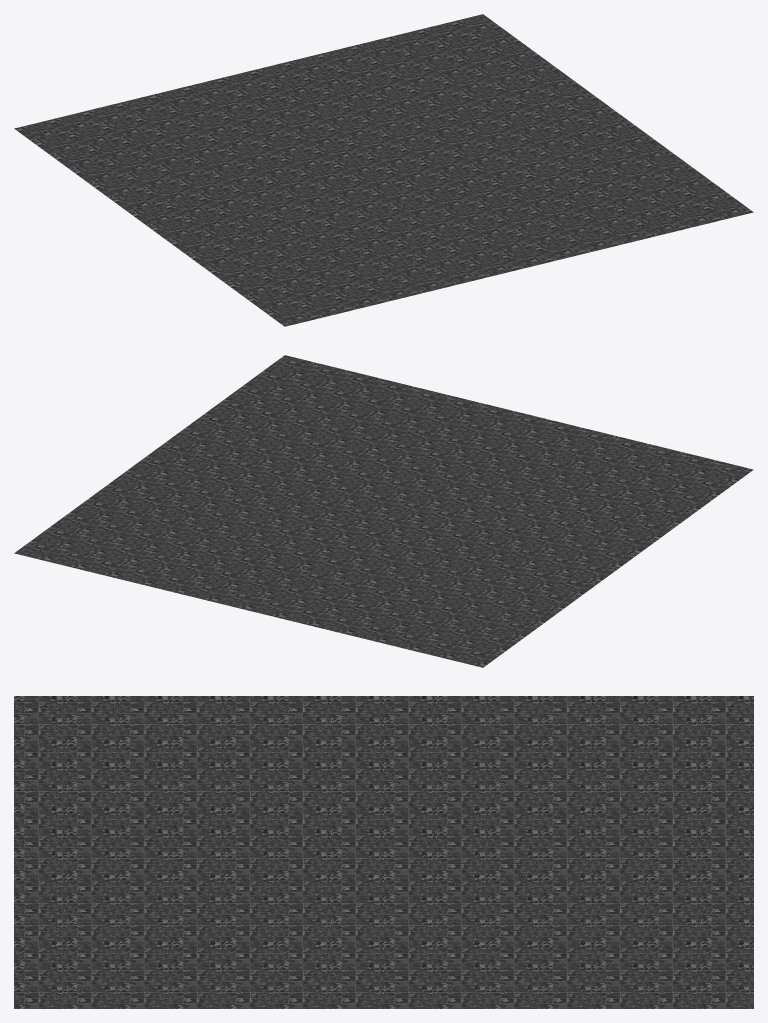
The model's file is tile 1.fbx.
The picture shows the model from 3 angles, top to bottom: view 1: azimuth 30°, elevation 25°; view 2: azimuth 150°, elevation 25°; view 3: azimuth 270°, elevation 25°; orthographic projection. The views are drawn at different scales.
Parts seen in each view (by area): view 1: Cube; view 2: Cube; view 3: Cube.
Boxes of the visible parts, bbox=[...] form: Cube: bbox=[14, 14, 753, 326]; Cube: bbox=[14, 355, 753, 667]; Cube: bbox=[14, 696, 753, 1008].
Size of the model in its own units: 5187 by 0.000845 by 5187.
Materials: 1 (1 with a texture image).
